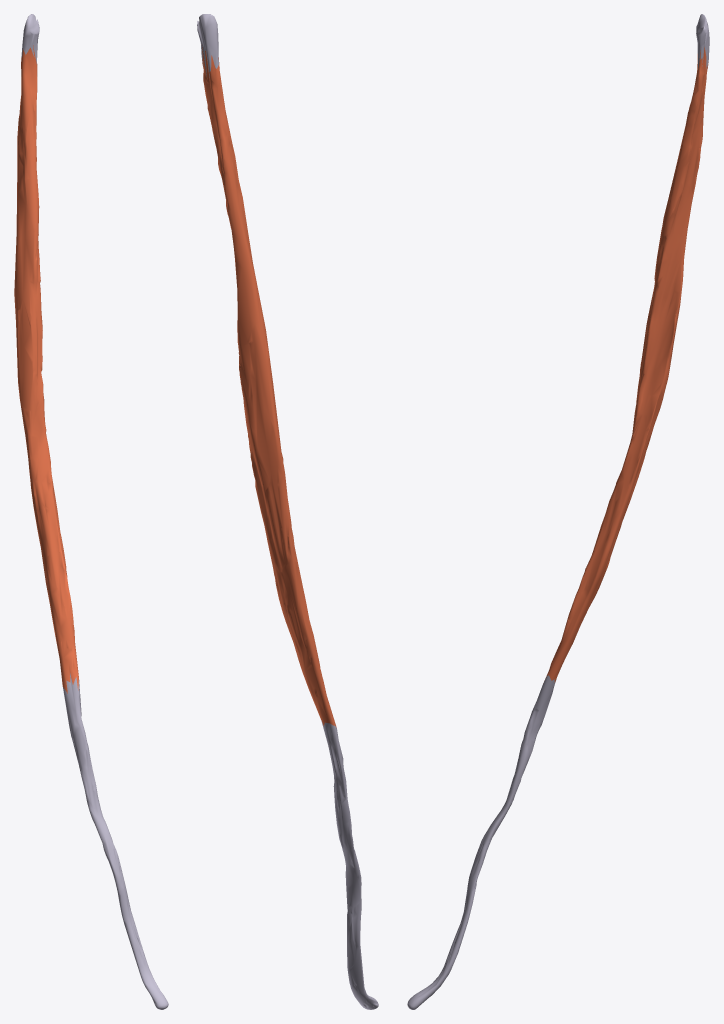
The model's file is Extensor_digiti_minimi.r_Generated_Mesh_From_X3D.974.glb.
3 renders of one model, left to right at view 1: azimuth 30°, elevation 25°; view 2: azimuth 150°, elevation 25°; view 3: azimuth 270°, elevation 25°, orthographic. The views are drawn at different scales.
Parts seen in each view (by area): view 1: Extensor_digiti_minimi.r_Generated_Mesh_From_X3D.974; view 2: Extensor_digiti_minimi.r_Generated_Mesh_From_X3D.974; view 3: Extensor_digiti_minimi.r_Generated_Mesh_From_X3D.974.
Part boxes in pixels (x1,y1,x2,y2): Extensor_digiti_minimi.r_Generated_Mesh_From_X3D.974: (14, 14, 168, 1009); Extensor_digiti_minimi.r_Generated_Mesh_From_X3D.974: (197, 14, 378, 1009); Extensor_digiti_minimi.r_Generated_Mesh_From_X3D.974: (407, 14, 709, 1009).
Size of the model in its own units: 0.0168 by 0.3359 by 0.0925.
